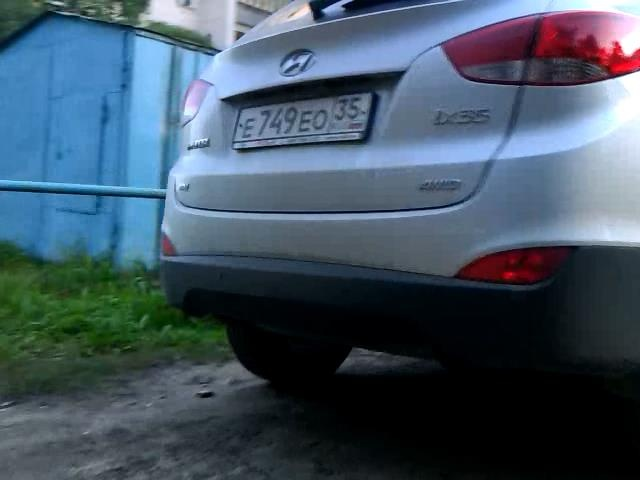car license plate: (232, 88, 375, 147)
